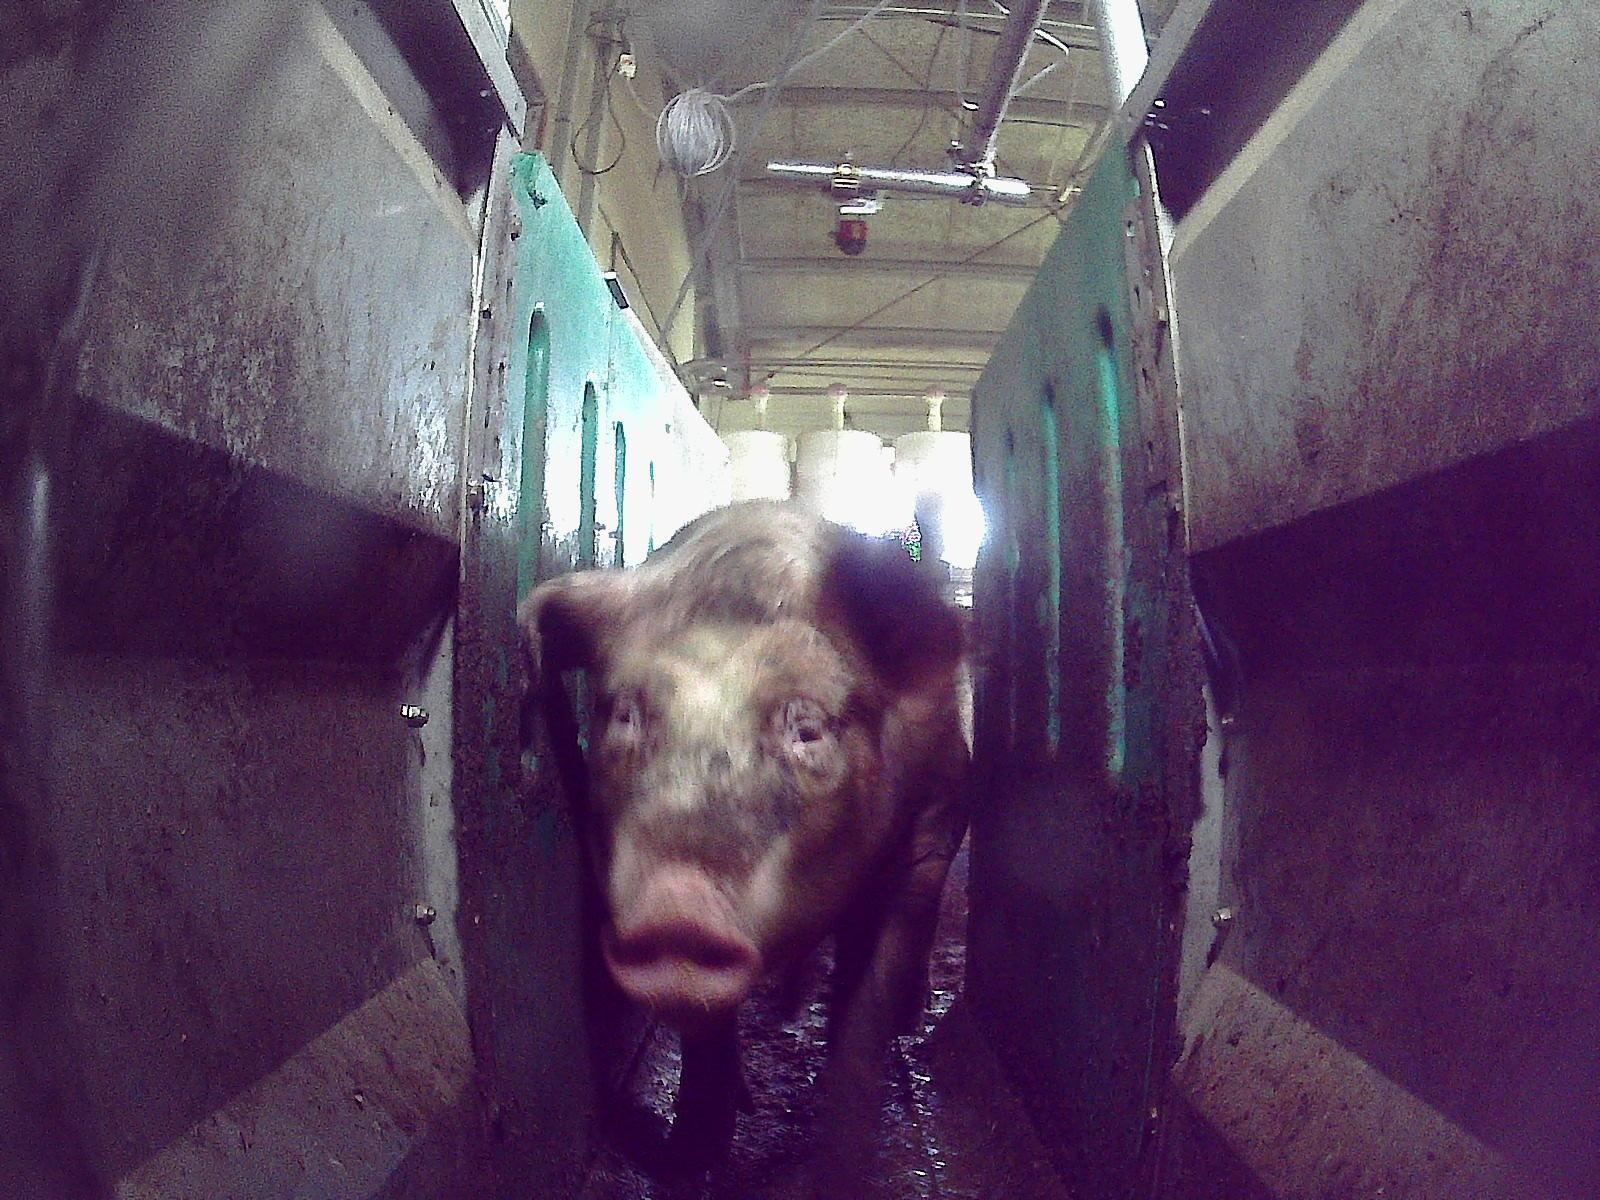Face: (590, 607, 876, 1007)
